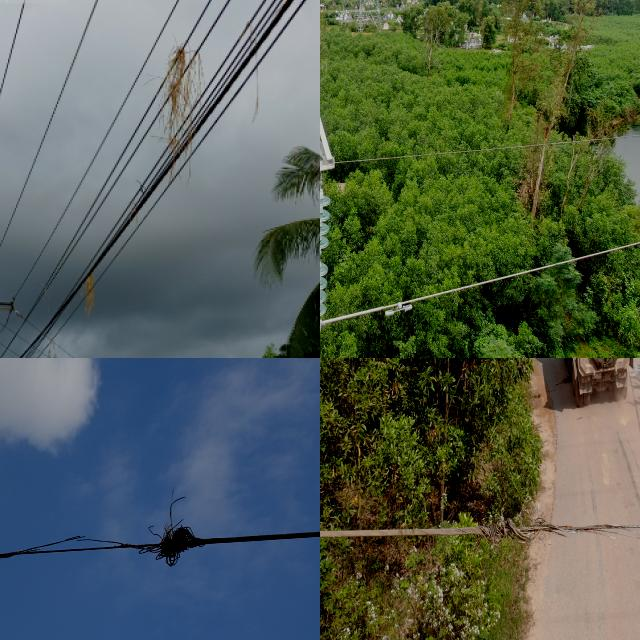植被遮挡: (164, 45, 205, 173), (83, 268, 95, 316)
正常电缆: (320, 231, 640, 333), (354, 121, 640, 172)
正常绝缘子: (320, 169, 333, 333)
电缆破损: (0, 526, 210, 583), (460, 501, 640, 566)
绝缘子破损: (320, 249, 322, 261)
